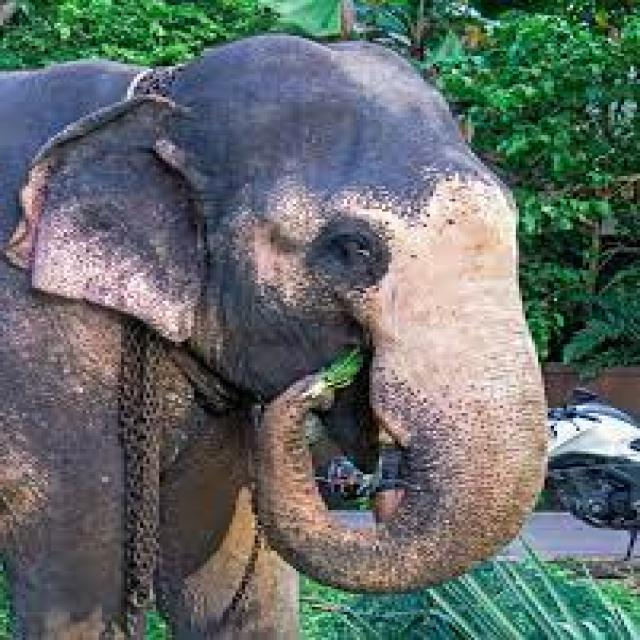Elephant: (3, 32, 561, 636)
